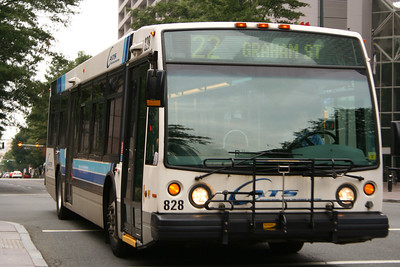bus: (43, 21, 389, 259)
